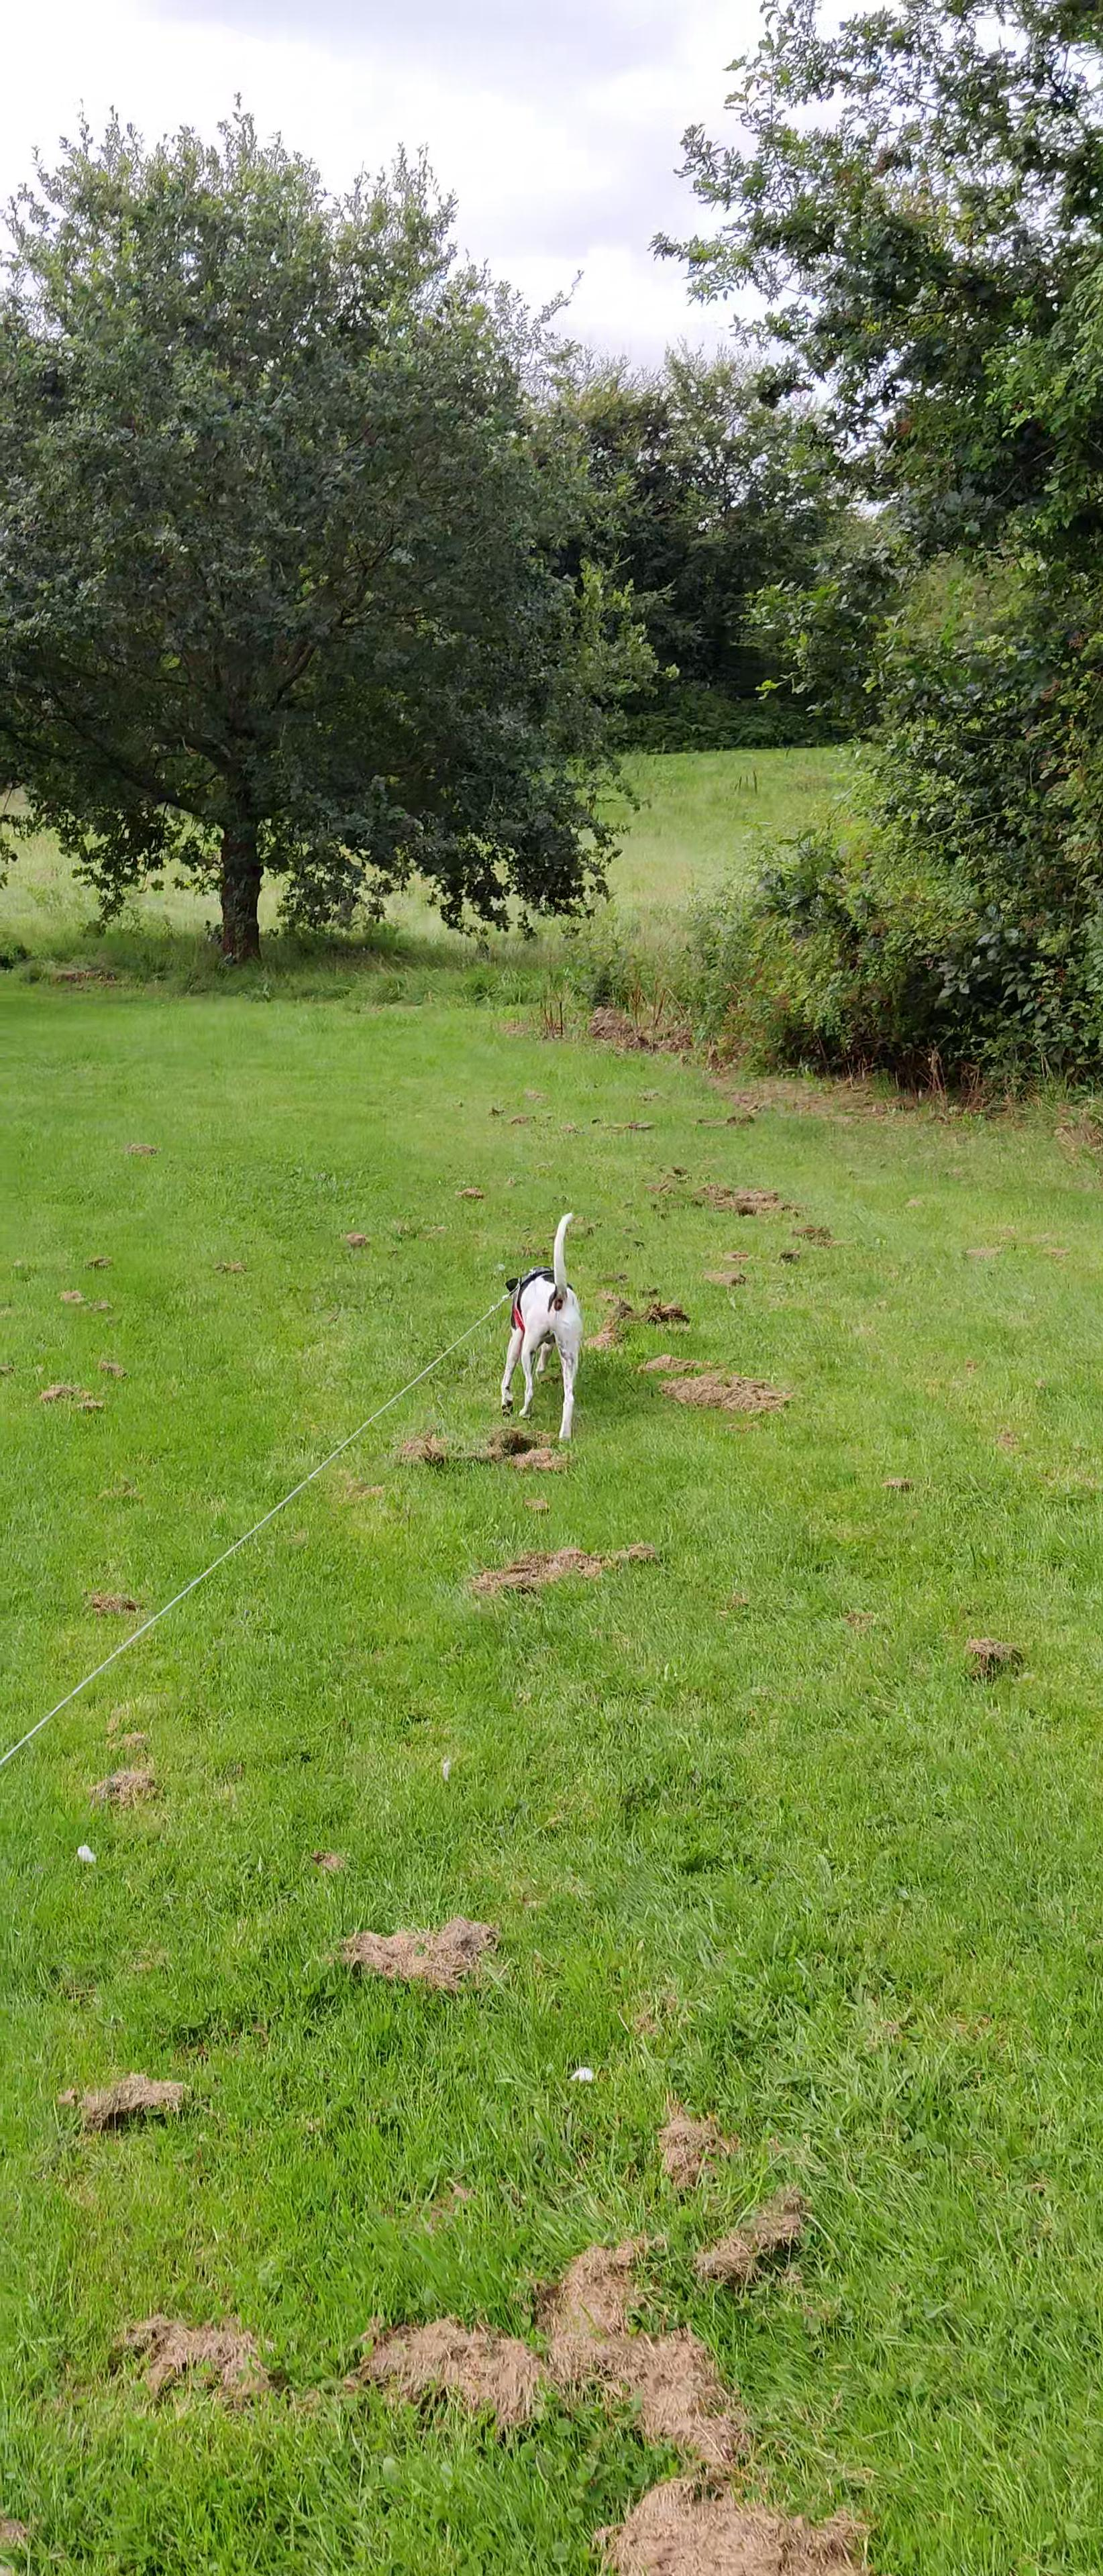Dog: (493, 1207, 587, 1446)
